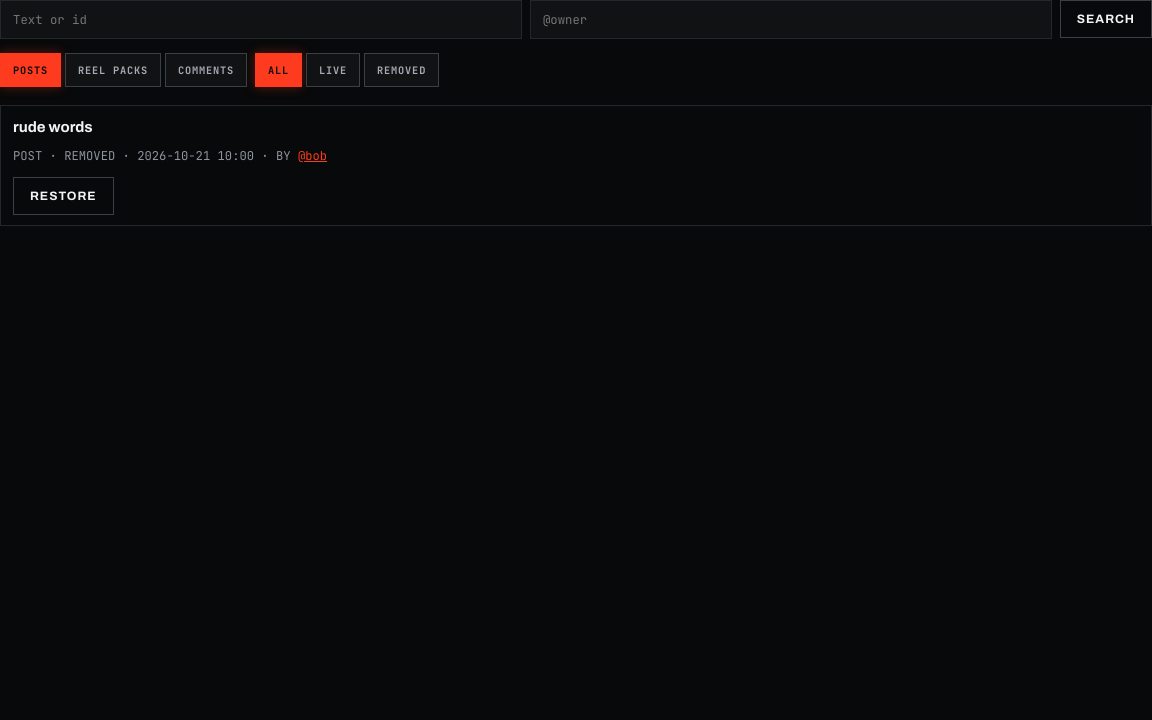
ContentPanel › offers restore to an admin, posts included
The width and height of the screenshot is (1152, 720).
Expected: the text "POST · REMOVED · 2026-10-21 10:00 · BY @bob" is shown, [13,147,327,165]
Click the button "RESTORE".
click(63, 196)  # box [13,177,114,215]
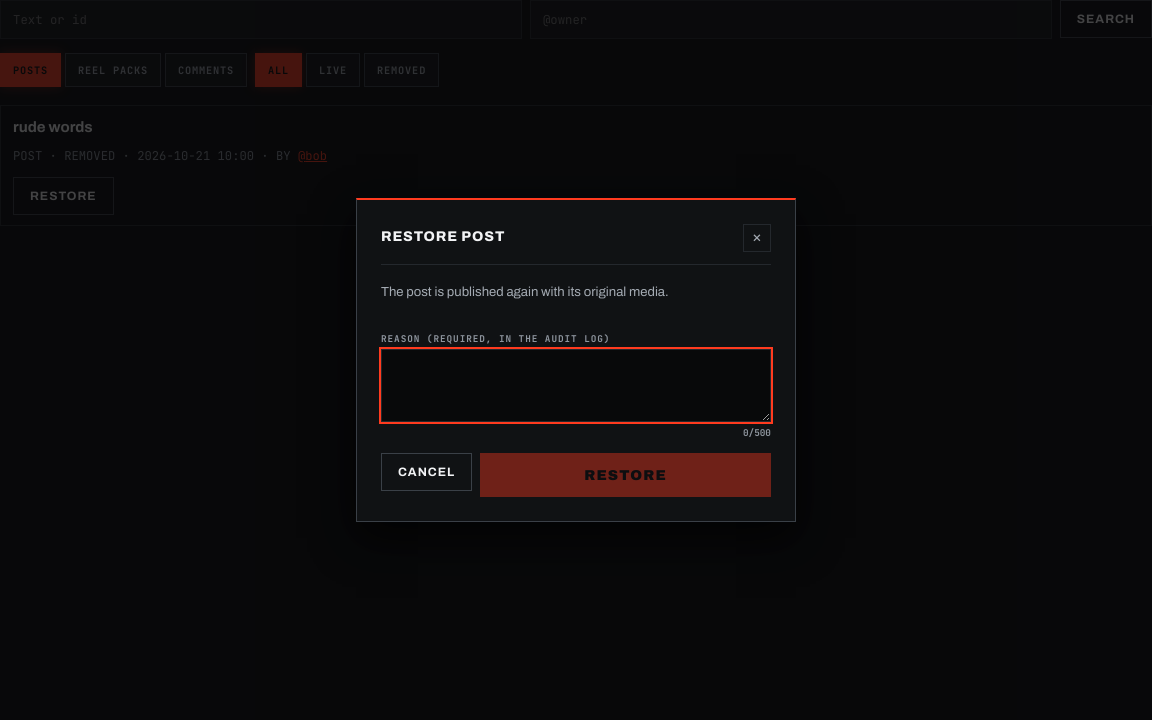
Expected: the text "The post is published again with its original media." is shown, [381,284,669,298]
Type "test reason" into the text box labelled "REASON".
click(576, 386); type("test reason")  # box [381,349,771,422]
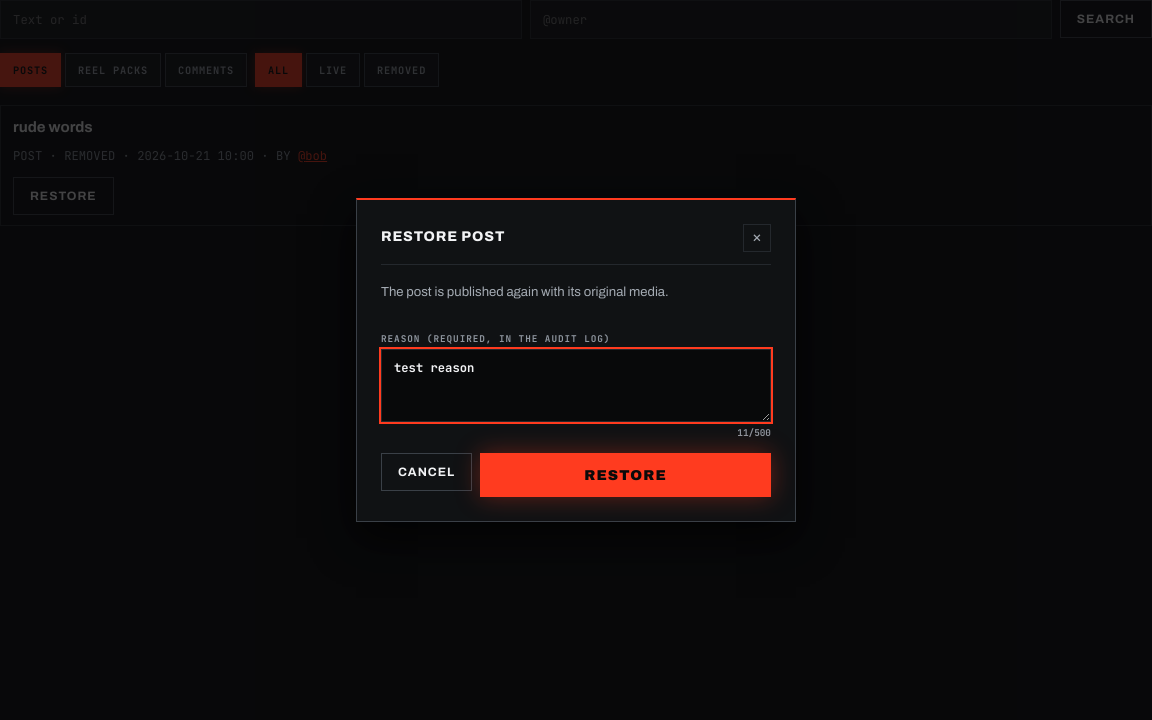
Click the button "RESTORE".
click(626, 476)  # box [480,454,771,498]
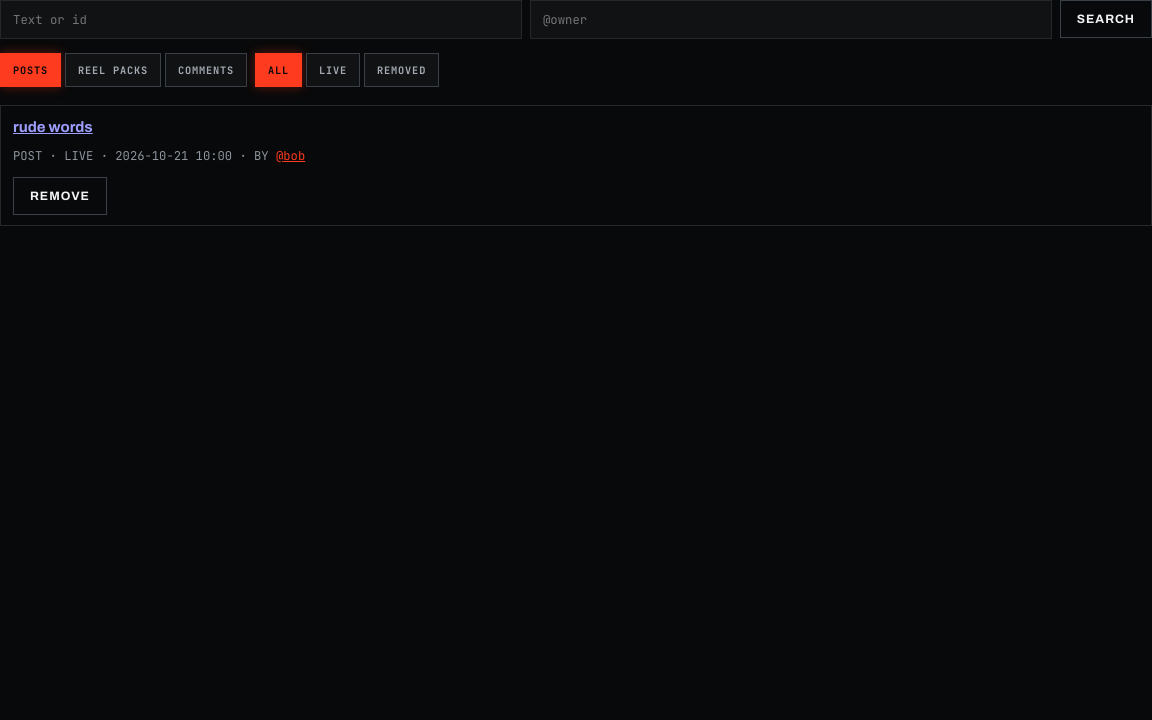
Expected: the button "RESTORE" is gone
